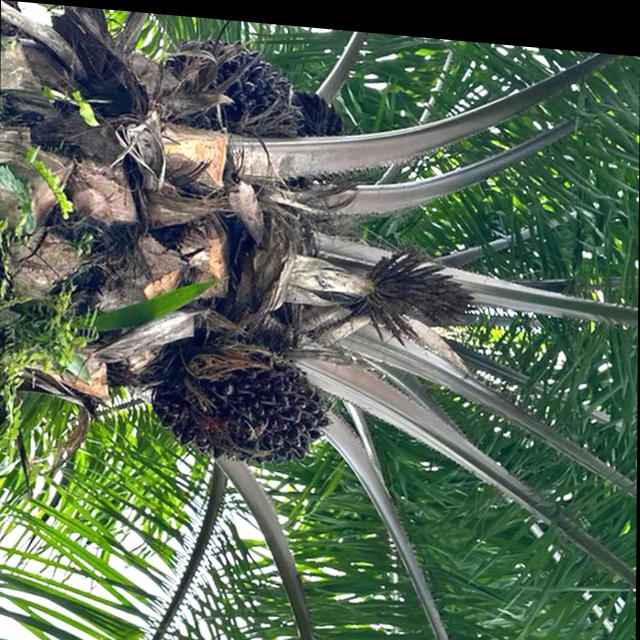almost: (142, 315, 341, 472), (155, 20, 312, 143)
